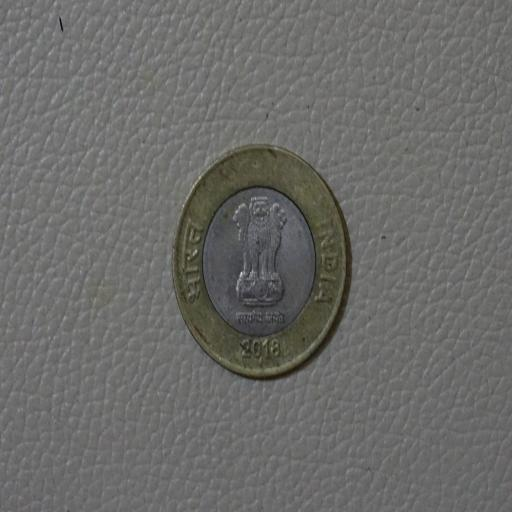rupee10: (167, 139, 353, 382)
